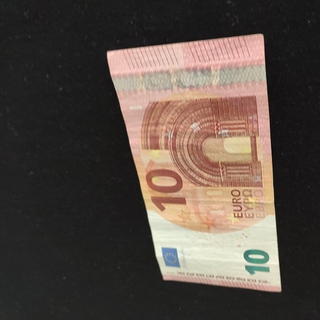10EUROFront: (107, 33, 282, 293)
